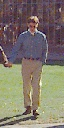person: (10, 15, 51, 120)
